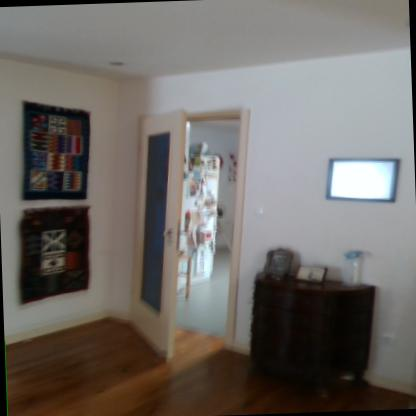semi: (117, 95, 265, 382)
